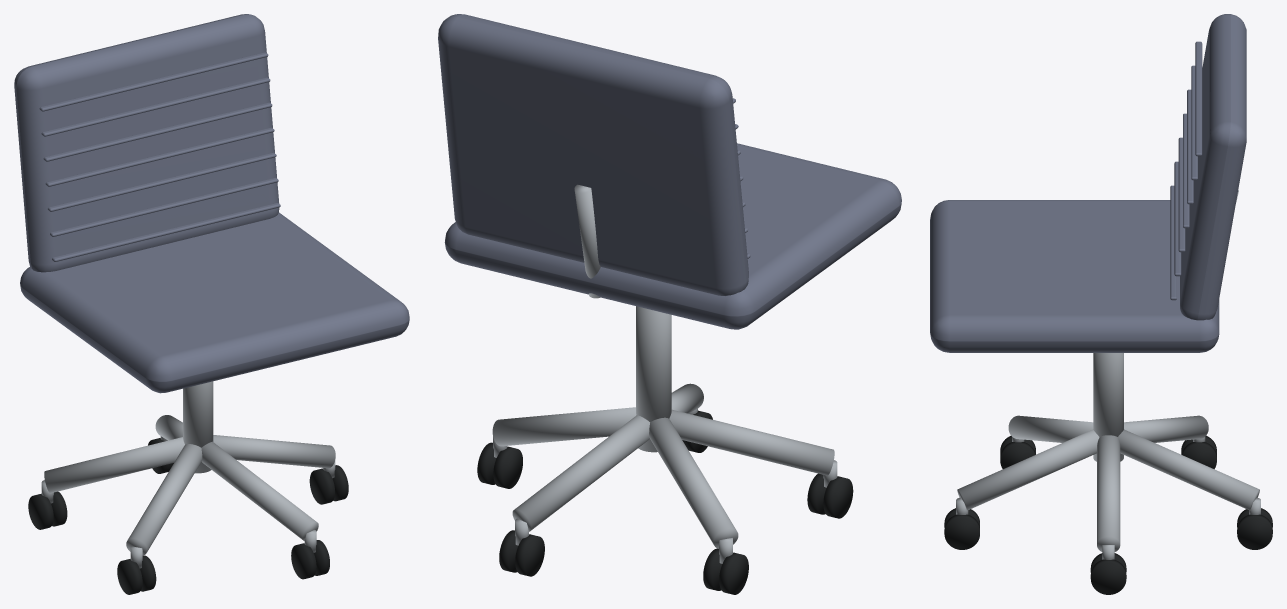
The model's file is 11_会议椅_中会议室及接待室.glb.
3 views of the same model, side by side, from view 1: azimuth 30°, elevation 25°; view 2: azimuth 150°, elevation 25°; view 3: azimuth 270°, elevation 25° (orthographic). The views are drawn at different scales.
Parts seen in each view (by area): view 1: 弧面靠背, 柔软座垫, 星形底脚.002, 星形底脚.004, 星形底脚.003, 星形底脚, 气压立柱, 横向软包分缝.005, 横向软包分缝.002, 横向软包分缝.003, 横向软包分缝.004, 横向软包分缝.006 (+7 smaller); view 2: 弧面靠背, 柔软座垫, 星形底脚.003, 星形底脚.001, 气压立柱, 星形底脚.002, 星形底脚, 靠背下支撑, 脚轮.006, 脚轮.002, 脚轮.004, 脚轮 (+4 smaller); view 3: 柔软座垫, 弧面靠背, 星形底脚.004, 星形底脚.001, 星形底脚, 气压立柱, 星形底脚.003, 星形底脚.002, 脚轮.001, 脚轮.003, 脚轮.009, 横向软包分缝.006 (+8 smaller).
Boxes of the visible parts, bbox=[...] form: 弧面靠背: bbox=[14, 14, 279, 272]; 柔软座垫: bbox=[20, 212, 409, 393]; 星形底脚.002: bbox=[44, 437, 184, 493]; 星形底脚.004: bbox=[201, 441, 318, 541]; 星形底脚.003: bbox=[126, 444, 202, 555]; 星形底脚: bbox=[213, 435, 335, 468]; 气压立柱: bbox=[183, 381, 213, 473]; 横向软包分缝.005: bbox=[41, 77, 270, 136]; 横向软包分缝.002: bbox=[48, 152, 276, 211]; 横向软包分缝.003: bbox=[45, 127, 274, 186]; 横向软包分缝.004: bbox=[43, 102, 272, 161]; 横向软包分缝.006: bbox=[39, 52, 268, 111]; 弧面靠背: bbox=[438, 14, 748, 295]; 柔软座垫: bbox=[444, 143, 901, 329]; 星形底脚.003: bbox=[669, 409, 834, 475]; 星形底脚.001: bbox=[512, 415, 649, 531]; 气压立柱: bbox=[636, 306, 671, 452]; 星形底脚.002: bbox=[649, 417, 738, 548]; 星形底脚: bbox=[492, 407, 636, 446]; 靠背下支撑: bbox=[574, 184, 600, 298]; 脚轮.006: bbox=[823, 476, 853, 518]; 脚轮.002: bbox=[515, 534, 544, 576]; 脚轮.004: bbox=[719, 552, 748, 594]; 脚轮: bbox=[493, 446, 522, 488]; 柔软座垫: bbox=[930, 200, 1219, 352]; 弧面靠背: bbox=[1180, 14, 1246, 320]; 星形底脚.004: bbox=[957, 429, 1099, 510]; 星形底脚.001: bbox=[1117, 429, 1259, 510]; 星形底脚: bbox=[1097, 435, 1120, 551]; 气压立柱: bbox=[1093, 353, 1123, 461]; 星形底脚.003: bbox=[1008, 415, 1093, 442]; 星形底脚.002: bbox=[1124, 415, 1208, 442]; 脚轮.001: bbox=[1090, 559, 1126, 594]; 脚轮.003: bbox=[1237, 514, 1272, 549]; 脚轮.009: bbox=[944, 514, 979, 549]; 横向软包分缝.006: bbox=[1195, 41, 1202, 156].
Bounding box in the file's own units: 0.5205 × 0.8173 × 0.5568.
